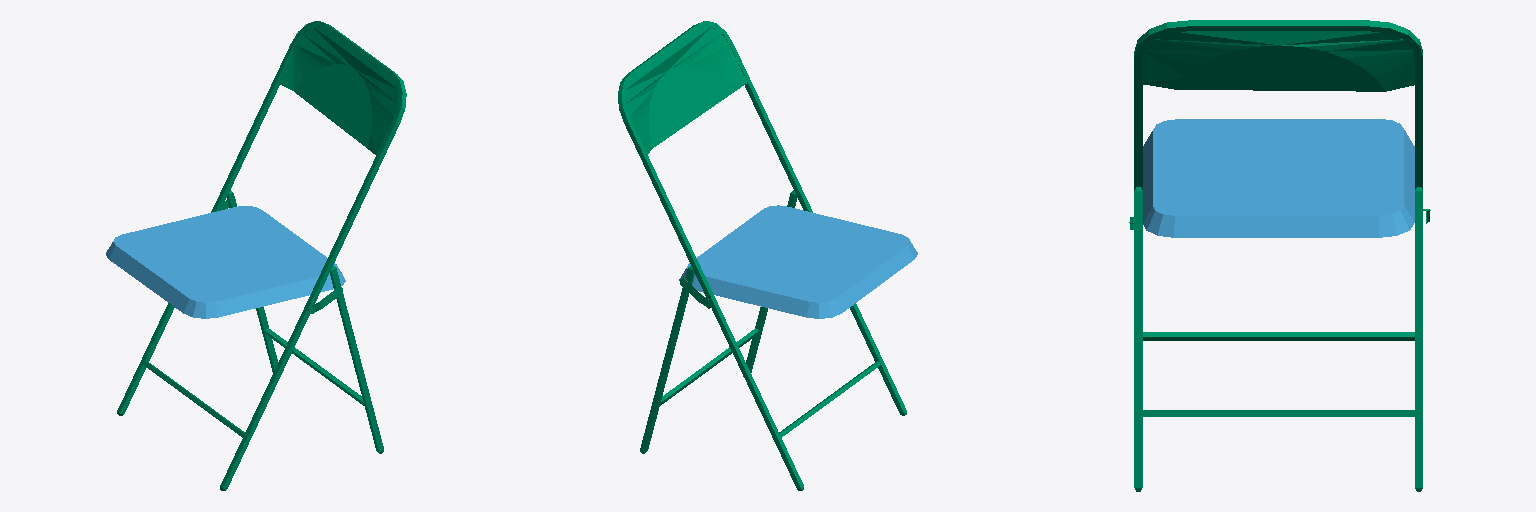
The robot description file, URDF, robot "partnet_1f82011c2303fc7babb8f41baefc4b12":
<?xml version="1.0" ?>
<robot name="partnet_1f82011c2303fc7babb8f41baefc4b12">
	<link name="base"/>
	<link name="link_0">
		<visual name="seat-1">
			<origin xyz="0 0.05398947114928498 0.09424079913683744"/>
			<geometry>
				<mesh filename="textured_objs/original-4.obj"/>
			</geometry>
		</visual>
		<collision>
			<origin xyz="0 0.05398947114928498 0.09424079913683744"/>
			<geometry>
				<mesh filename="textured_objs/original-4.obj"/>
			</geometry>
		</collision>
	</link>
	<joint name="joint_0" type="revolute">
		<origin xyz="0 -0.05398947114928498 -0.09424079913683744"/>
		<axis xyz="-1 0 0"/>
		<child link="link_0"/>
		<parent link="link_1"/>
		<limit lower="0.0" upper="1.5519467708733579"/>
	</joint>
	<link name="link_1">
		<visual name="base_body-2">
			<origin xyz="0 0 0"/>
			<geometry>
				<mesh filename="textured_objs/original-21.obj"/>
			</geometry>
		</visual>
		<visual name="base_body-2">
			<origin xyz="0 0 0"/>
			<geometry>
				<mesh filename="textured_objs/original-22.obj"/>
			</geometry>
		</visual>
		<visual name="base_body-2">
			<origin xyz="0 0 0"/>
			<geometry>
				<mesh filename="textured_objs/original-3.obj"/>
			</geometry>
		</visual>
		<visual name="base_body-2">
			<origin xyz="0 0 0"/>
			<geometry>
				<mesh filename="textured_objs/original-2.obj"/>
			</geometry>
		</visual>
		<visual name="base_body-2">
			<origin xyz="0 0 0"/>
			<geometry>
				<mesh filename="textured_objs/original-16.obj"/>
			</geometry>
		</visual>
		<visual name="base_body-2">
			<origin xyz="0 0 0"/>
			<geometry>
				<mesh filename="textured_objs/original-8.obj"/>
			</geometry>
		</visual>
		<visual name="base_body-2">
			<origin xyz="0 0 0"/>
			<geometry>
				<mesh filename="textured_objs/original-6.obj"/>
			</geometry>
		</visual>
		<visual name="base_body-2">
			<origin xyz="0 0 0"/>
			<geometry>
				<mesh filename="textured_objs/original-15.obj"/>
			</geometry>
		</visual>
		<visual name="base_body-2">
			<origin xyz="0 0 0"/>
			<geometry>
				<mesh filename="textured_objs/original-23.obj"/>
			</geometry>
		</visual>
		<visual name="base_body-2">
			<origin xyz="0 0 0"/>
			<geometry>
				<mesh filename="textured_objs/original-11.obj"/>
			</geometry>
		</visual>
		<visual name="base_body-2">
			<origin xyz="0 0 0"/>
			<geometry>
				<mesh filename="textured_objs/original-18.obj"/>
			</geometry>
		</visual>
		<visual name="base_body-2">
			<origin xyz="0 0 0"/>
			<geometry>
				<mesh filename="textured_objs/original-25.obj"/>
			</geometry>
		</visual>
		<visual name="base_body-2">
			<origin xyz="0 0 0"/>
			<geometry>
				<mesh filename="textured_objs/original-12.obj"/>
			</geometry>
		</visual>
		<visual name="base_body-2">
			<origin xyz="0 0 0"/>
			<geometry>
				<mesh filename="textured_objs/original-24.obj"/>
			</geometry>
		</visual>
		<visual name="base_body-2">
			<origin xyz="0 0 0"/>
			<geometry>
				<mesh filename="textured_objs/original-7.obj"/>
			</geometry>
		</visual>
		<visual name="base_body-2">
			<origin xyz="0 0 0"/>
			<geometry>
				<mesh filename="textured_objs/original-10.obj"/>
			</geometry>
		</visual>
		<visual name="base_body-2">
			<origin xyz="0 0 0"/>
			<geometry>
				<mesh filename="textured_objs/original-14.obj"/>
			</geometry>
		</visual>
		<visual name="base_body-2">
			<origin xyz="0 0 0"/>
			<geometry>
				<mesh filename="textured_objs/original-19.obj"/>
			</geometry>
		</visual>
		<collision>
			<origin xyz="0 0 0"/>
			<geometry>
				<mesh filename="textured_objs/original-21.obj"/>
			</geometry>
		</collision>
		<collision>
			<origin xyz="0 0 0"/>
			<geometry>
				<mesh filename="textured_objs/original-22.obj"/>
			</geometry>
		</collision>
		<collision>
			<origin xyz="0 0 0"/>
			<geometry>
				<mesh filename="textured_objs/original-3.obj"/>
			</geometry>
		</collision>
		<collision>
			<origin xyz="0 0 0"/>
			<geometry>
				<mesh filename="textured_objs/original-2.obj"/>
			</geometry>
		</collision>
		<collision>
			<origin xyz="0 0 0"/>
			<geometry>
				<mesh filename="textured_objs/original-16.obj"/>
			</geometry>
		</collision>
		<collision>
			<origin xyz="0 0 0"/>
			<geometry>
				<mesh filename="textured_objs/original-8.obj"/>
			</geometry>
		</collision>
		<collision>
			<origin xyz="0 0 0"/>
			<geometry>
				<mesh filename="textured_objs/original-6.obj"/>
			</geometry>
		</collision>
		<collision>
			<origin xyz="0 0 0"/>
			<geometry>
				<mesh filename="textured_objs/original-15.obj"/>
			</geometry>
		</collision>
		<collision>
			<origin xyz="0 0 0"/>
			<geometry>
				<mesh filename="textured_objs/original-23.obj"/>
			</geometry>
		</collision>
		<collision>
			<origin xyz="0 0 0"/>
			<geometry>
				<mesh filename="textured_objs/original-11.obj"/>
			</geometry>
		</collision>
		<collision>
			<origin xyz="0 0 0"/>
			<geometry>
				<mesh filename="textured_objs/original-18.obj"/>
			</geometry>
		</collision>
		<collision>
			<origin xyz="0 0 0"/>
			<geometry>
				<mesh filename="textured_objs/original-25.obj"/>
			</geometry>
		</collision>
		<collision>
			<origin xyz="0 0 0"/>
			<geometry>
				<mesh filename="textured_objs/original-12.obj"/>
			</geometry>
		</collision>
		<collision>
			<origin xyz="0 0 0"/>
			<geometry>
				<mesh filename="textured_objs/original-24.obj"/>
			</geometry>
		</collision>
		<collision>
			<origin xyz="0 0 0"/>
			<geometry>
				<mesh filename="textured_objs/original-7.obj"/>
			</geometry>
		</collision>
		<collision>
			<origin xyz="0 0 0"/>
			<geometry>
				<mesh filename="textured_objs/original-10.obj"/>
			</geometry>
		</collision>
		<collision>
			<origin xyz="0 0 0"/>
			<geometry>
				<mesh filename="textured_objs/original-14.obj"/>
			</geometry>
		</collision>
		<collision>
			<origin xyz="0 0 0"/>
			<geometry>
				<mesh filename="textured_objs/original-19.obj"/>
			</geometry>
		</collision>
	</link>
	<joint name="joint_1" type="fixed">
		<origin rpy="1.570796326794897 0 -1.570796326794897" xyz="0 0 0"/>
		<child link="link_1"/>
		<parent link="base"/>
	</joint>
</robot>

--- What the picture shows (computed from the rendered views, not written in the file) ---
The picture shows the robot from 3 angles, left to right: view 1: azimuth 30°, elevation 25°; view 2: azimuth 150°, elevation 25°; view 3: azimuth 270°, elevation 25°; orthographic projection.
Robot: partnet_1f82011c2303fc7babb8f41baefc4b12 — 3 links, 2 joints (1 revolute, 1 fixed); root link base; default pose: every joint at zero.
Links seen in each view (by area): view 1: link_1, link_0; view 2: link_1, link_0; view 3: link_0, link_1.
Link boxes in pixels (x1=…): link_1: x1=117, y1=21, x2=406, y2=490; link_0: x1=106, y1=206, x2=345, y2=318; link_1: x1=618, y1=21, x2=906, y2=490; link_0: x1=679, y1=205, x2=917, y2=318; link_0: x1=1143, y1=119, x2=1414, y2=237; link_1: x1=1129, y1=20, x2=1430, y2=491.
Size in the robot's own frame: 1.02 by 0.8971 by 1.61 metres.
Meshes: 19 distinct files referenced, 19 mesh visuals loaded (19 OBJ).